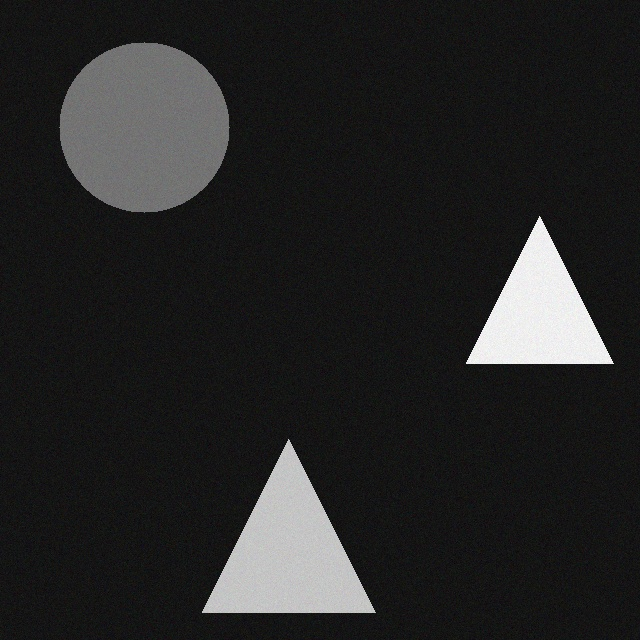circle: (69, 43, 239, 213)
triangle: (212, 440, 385, 613), (476, 217, 623, 364)
